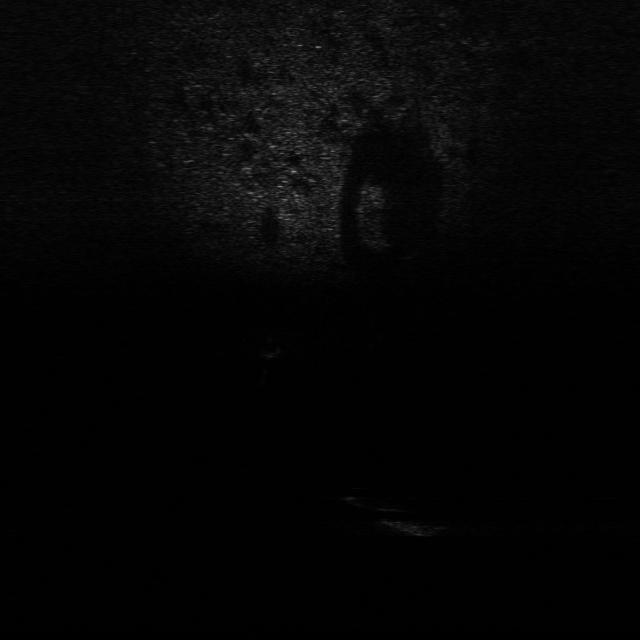ball: (252, 339, 288, 359)
metal bucket: (368, 518, 448, 538)
tyre: (322, 482, 421, 514)
